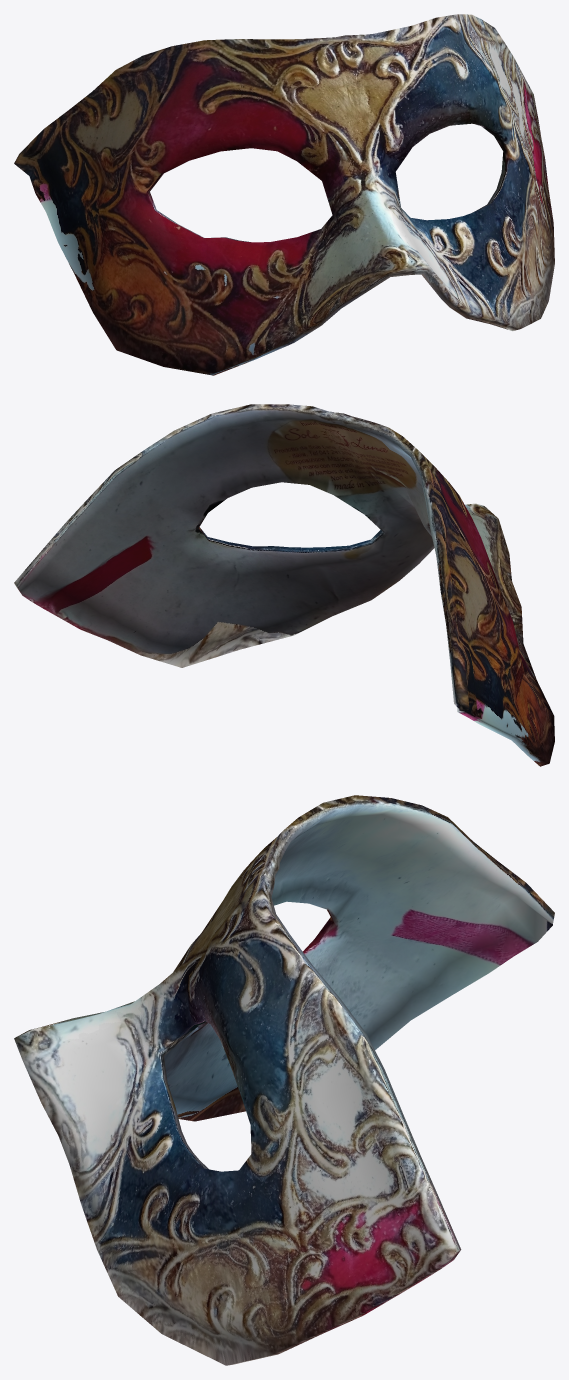
The model's file is Mask_Low.fbx.
The picture shows the model from 3 angles, top to bottom: view 1: azimuth 30°, elevation 25°; view 2: azimuth 150°, elevation 25°; view 3: azimuth 270°, elevation 25°; orthographic projection. The views are drawn at different scales.
Parts seen in each view (by area): view 1: LowPoly Mask Mesh; view 2: LowPoly Mask Mesh; view 3: LowPoly Mask Mesh.
Boxes of the visible parts, bbox=[...] form: LowPoly Mask Mesh: bbox=[14, 14, 554, 375]; LowPoly Mask Mesh: bbox=[14, 404, 554, 766]; LowPoly Mask Mesh: bbox=[14, 795, 554, 1365].
Size of the model in its own units: 105 by 63.13 by 78.51.
